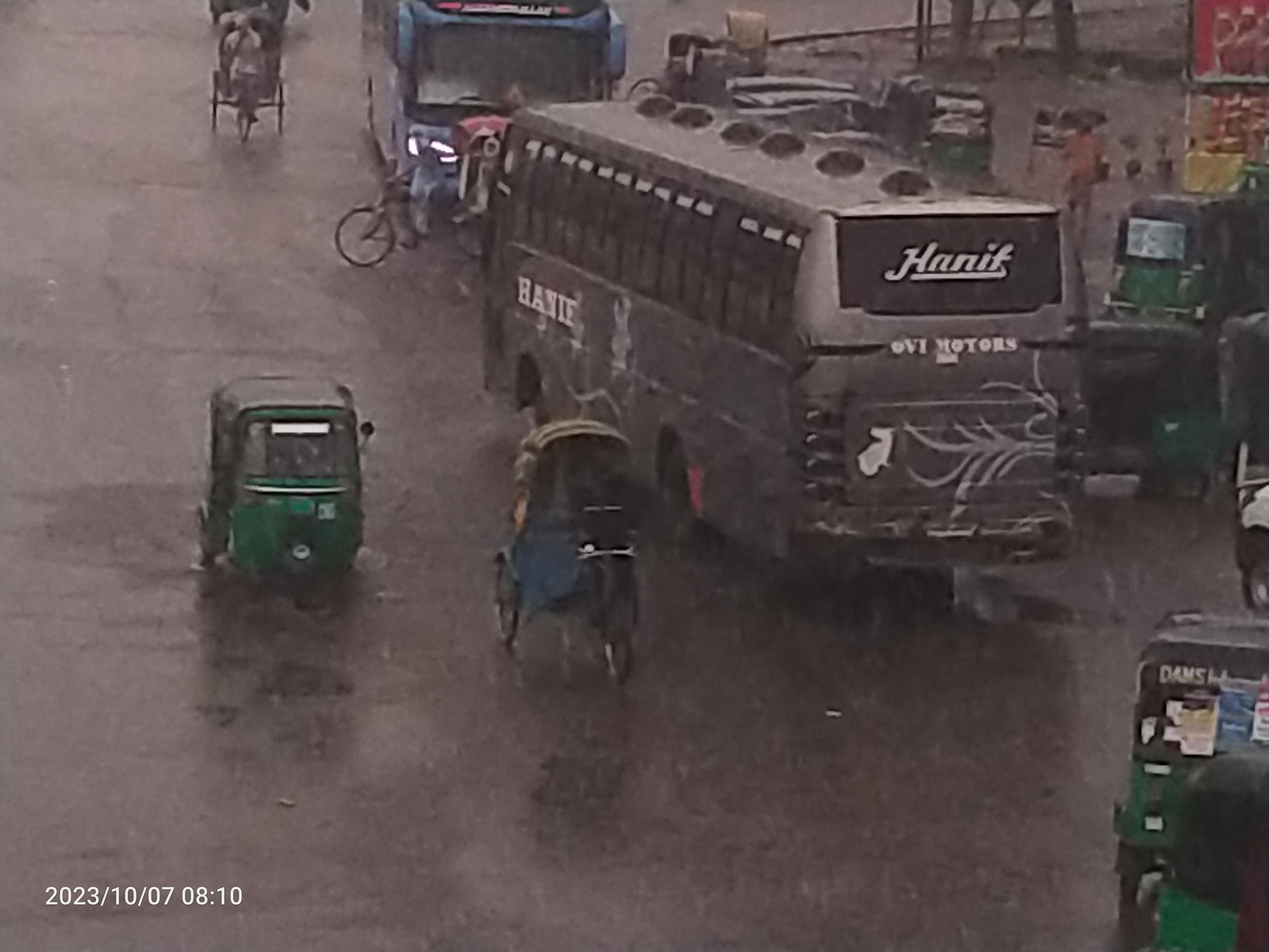Bus: (474, 80, 1145, 580), (345, 4, 628, 239)
Car: (471, 397, 669, 701), (325, 95, 530, 288), (183, 0, 305, 149)
